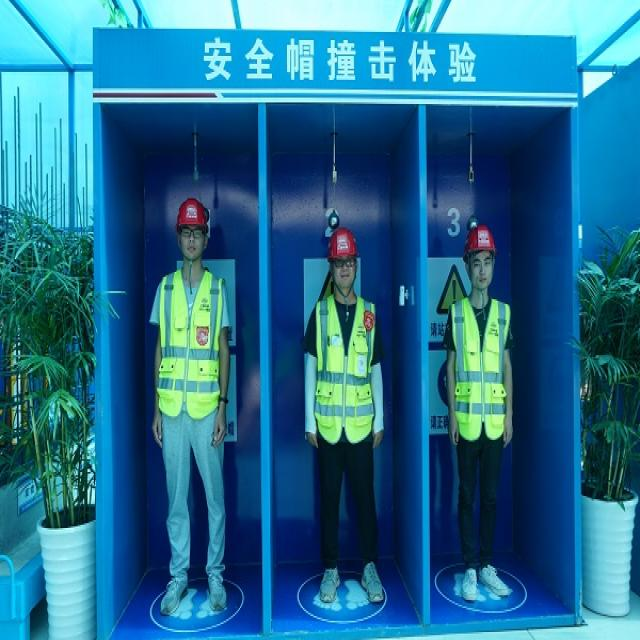Reflective-Jacket: (155, 264, 225, 416), (312, 291, 378, 442), (449, 293, 513, 438)
Safety-Helmet: (174, 195, 209, 229), (326, 225, 359, 258), (464, 222, 498, 253)
